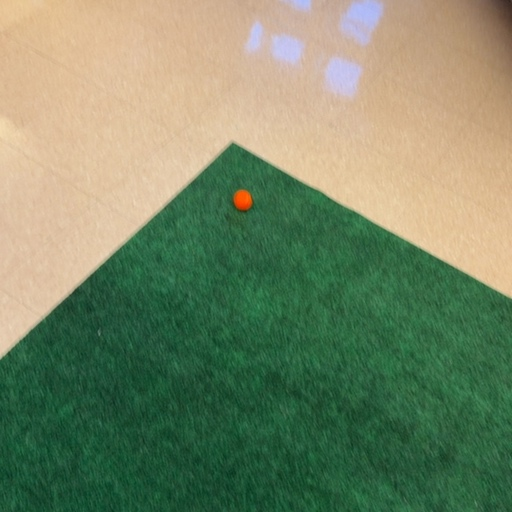Ball: (233, 190, 253, 211)
